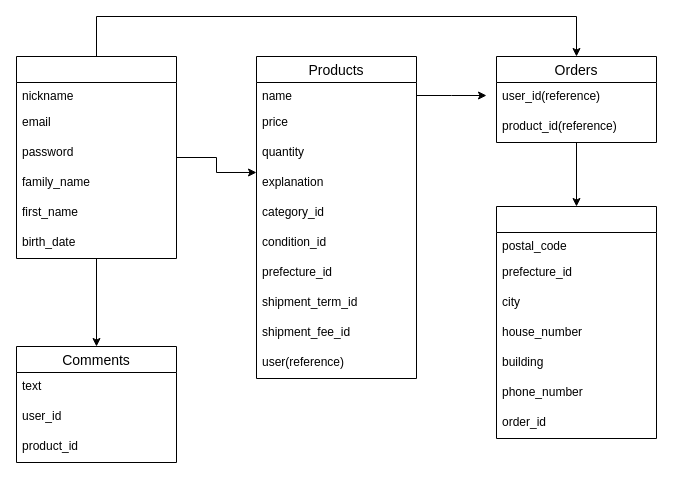
This 673x479 diagram has some shape labels left out. The shapes that lost their labels are listed below. From the top down, each one's box as (x1, y1, x2, y2) in pixels, then its label:
(16, 56, 176, 258): Users
(496, 206, 656, 438): Address
